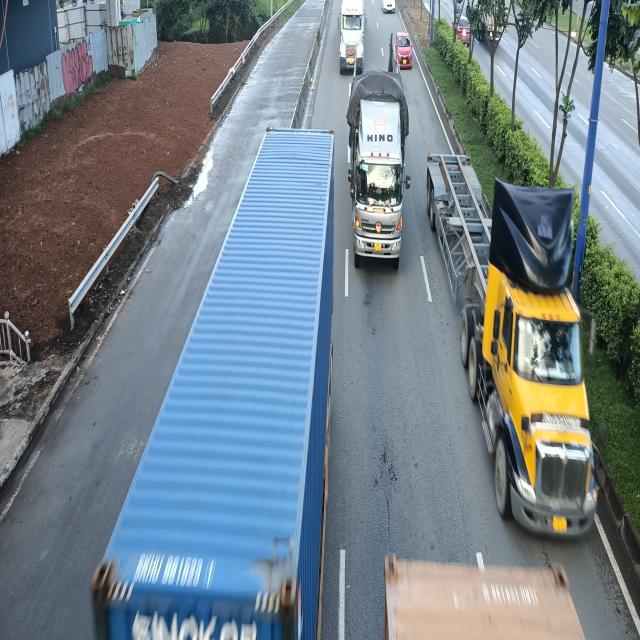car: (391, 30, 412, 71), (382, 0, 397, 14)
container: (102, 125, 344, 640), (424, 154, 593, 536), (347, 72, 410, 264), (339, 0, 367, 72)
